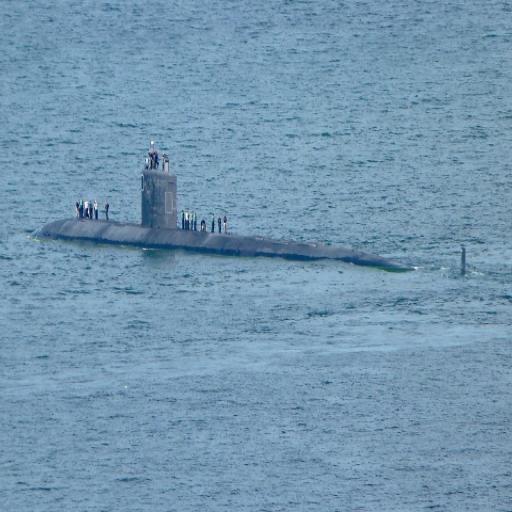submarine: (34, 169, 468, 276)
